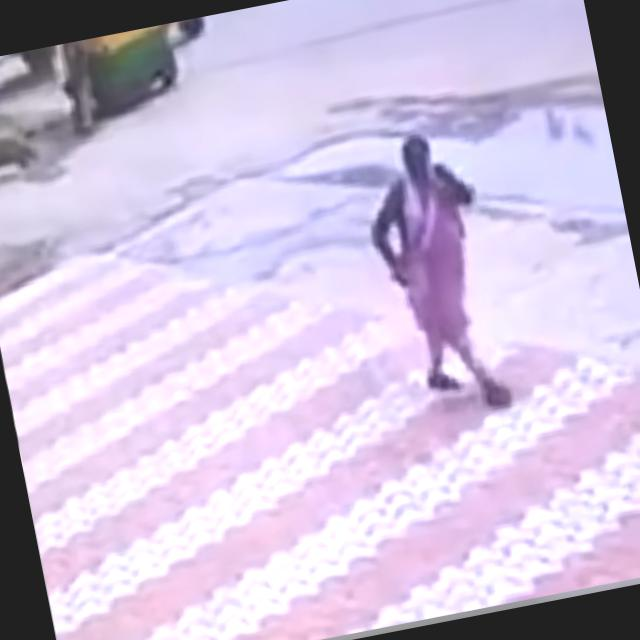person: (354, 125, 518, 422)
